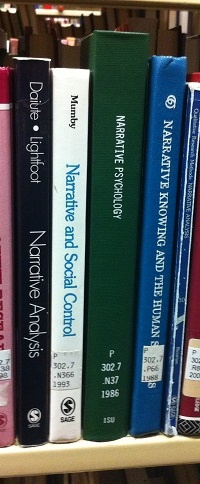call_number: (95, 344, 126, 410), (51, 351, 81, 389), (141, 344, 162, 383)
